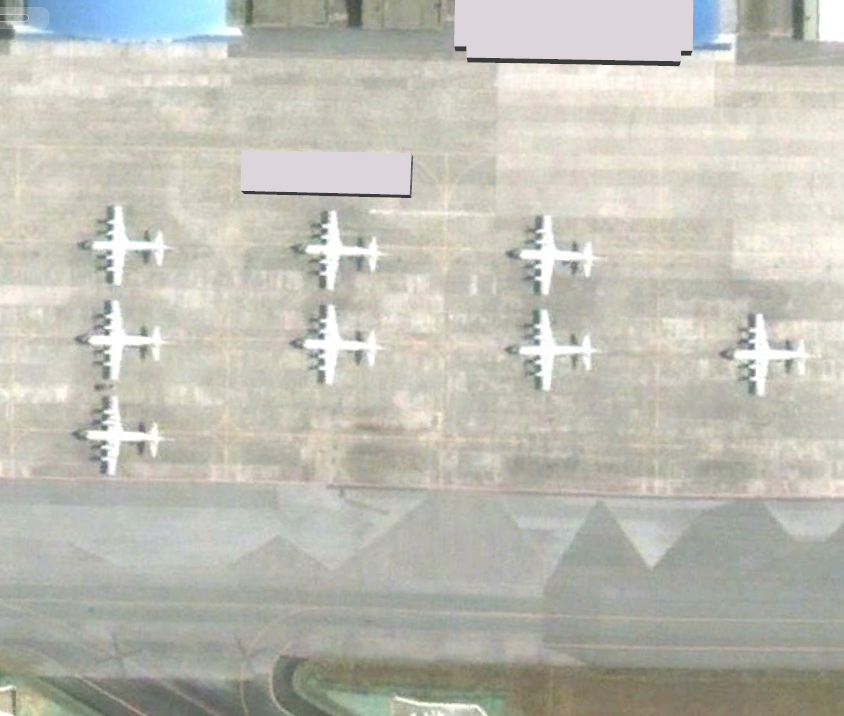A9: (72, 198, 187, 291), (71, 289, 186, 382), (70, 384, 185, 477), (286, 201, 400, 294), (285, 295, 399, 388), (498, 210, 612, 303), (501, 299, 615, 392), (714, 308, 828, 401)
